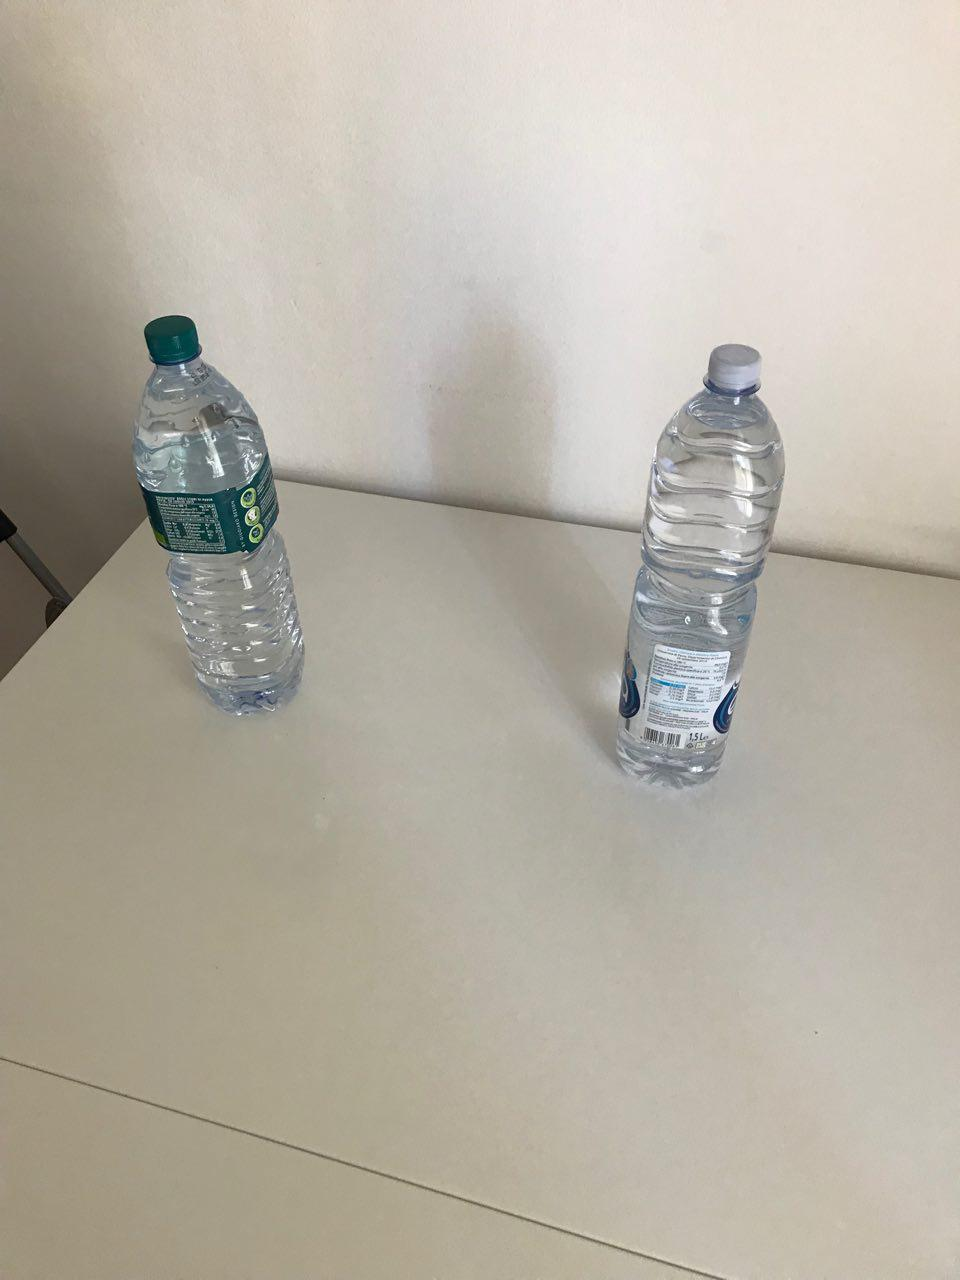san_bernardo: (128, 314, 307, 718)
